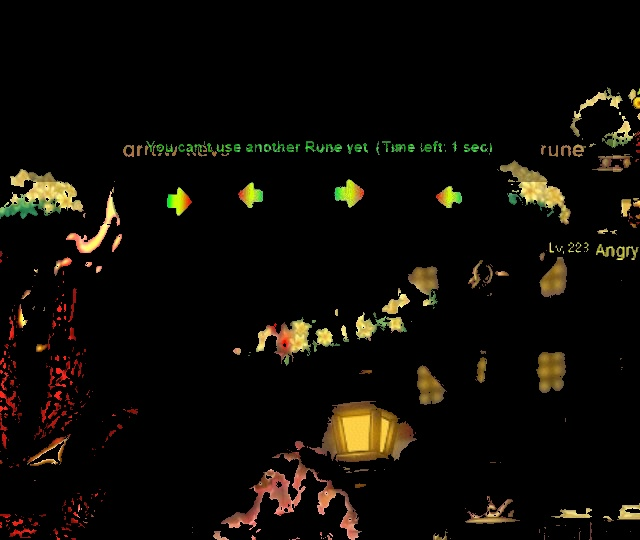left: (234, 175, 271, 216), (428, 180, 467, 217)
right: (158, 181, 197, 223), (328, 175, 370, 214)
